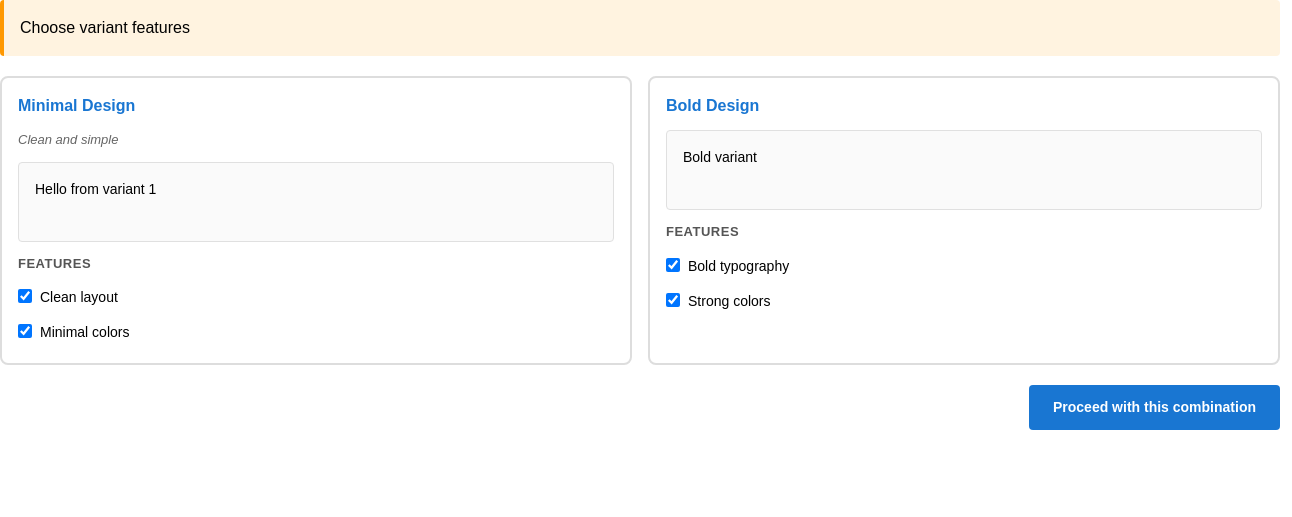
VariantSelectionUI › shows error message on failure
Step 1. Click the button "Proceed with this combination" → (1154, 408), box [1029,385,1280,430]
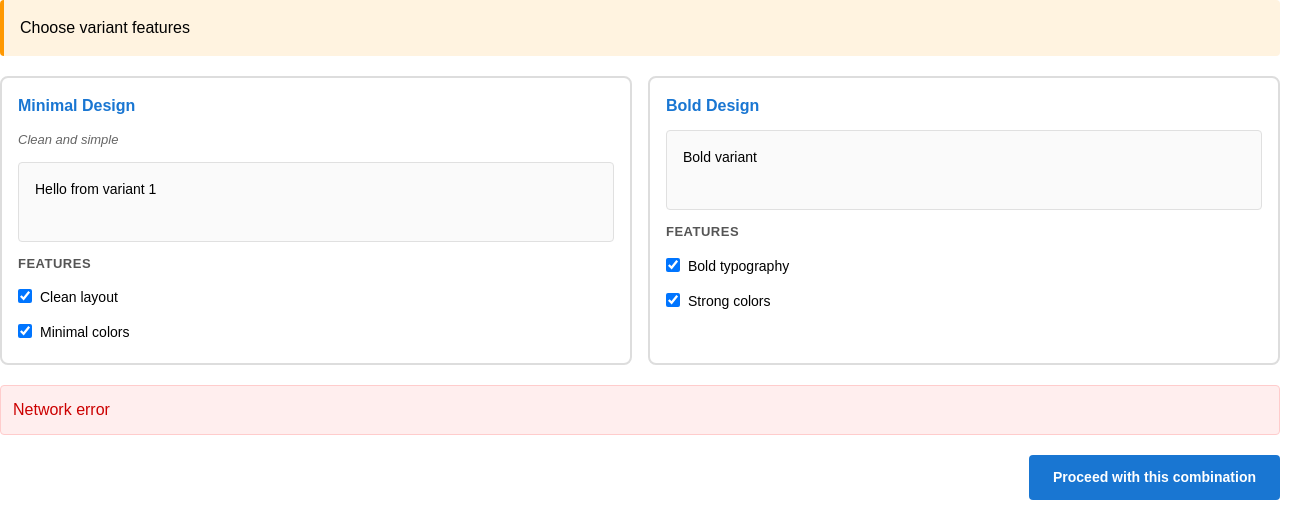
Expected: the text "Network error" is shown, [0,385,1280,435]
